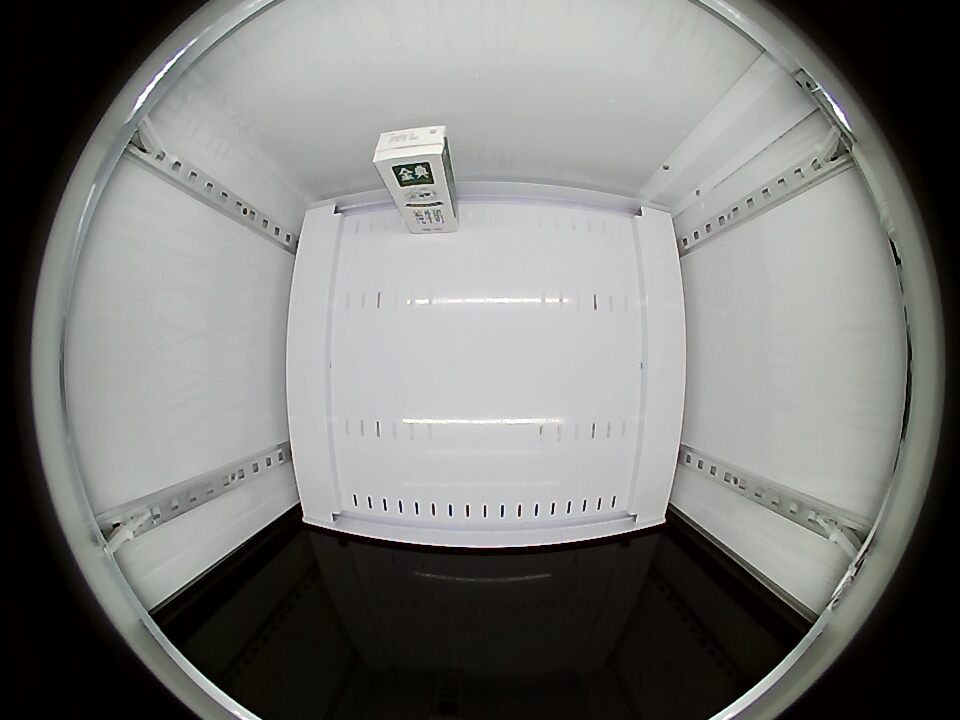jindian: (372, 124, 450, 182)
